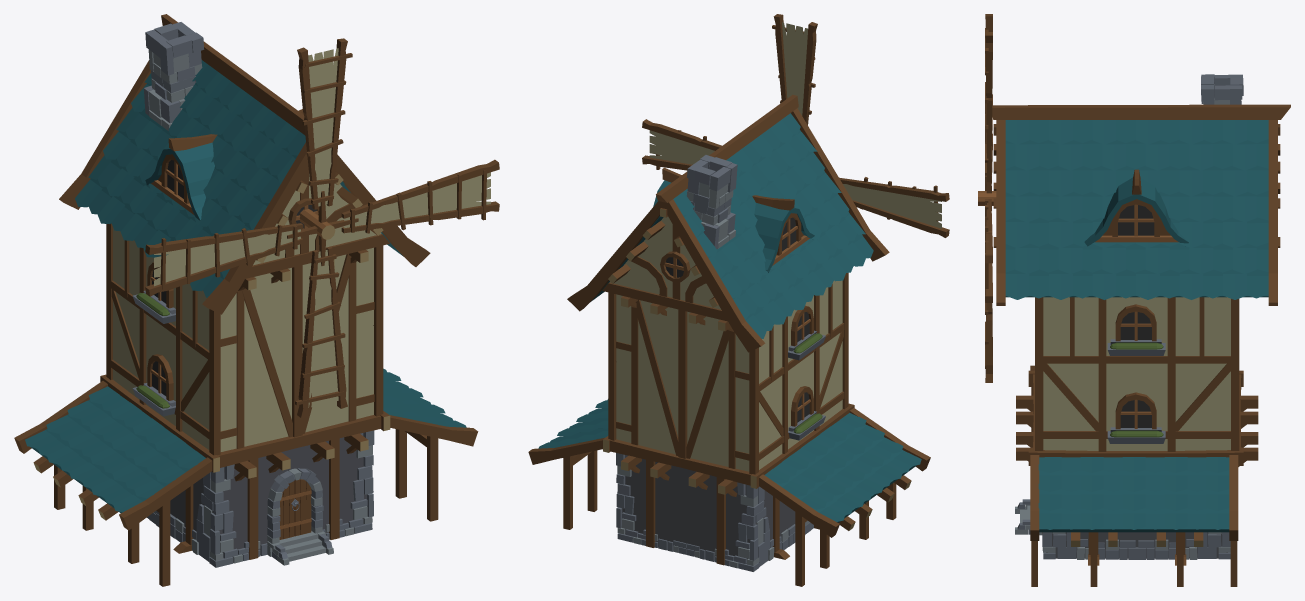
Rendered from Mill.gltf.
3 renders of one model, left to right at view 1: azimuth 30°, elevation 25°; view 2: azimuth 150°, elevation 25°; view 3: azimuth 270°, elevation 25°, orthographic. The views are drawn at different scales.
Visible parts, largest first — view 1: Mill_Cube.128, Mill_Blades_Cube.007; view 2: Mill_Cube.128, Mill_Blades_Cube.007; view 3: Mill_Cube.128, Mill_Blades_Cube.007.
Boxes of the visible parts, x1,y1,x2,y2 form: Mill_Cube.128: [14, 14, 478, 586]; Mill_Blades_Cube.007: [145, 38, 499, 417]; Mill_Cube.128: [528, 94, 930, 586]; Mill_Blades_Cube.007: [642, 14, 949, 237]; Mill_Cube.128: [992, 74, 1290, 586]; Mill_Blades_Cube.007: [978, 14, 996, 382].
Bounding box in the file's own units: 3.4 × 4.8 × 2.73.
